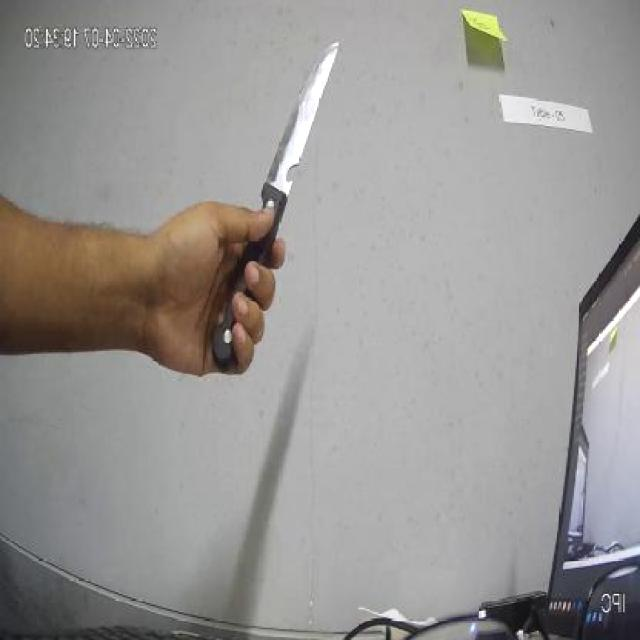knife: (197, 34, 352, 363)
